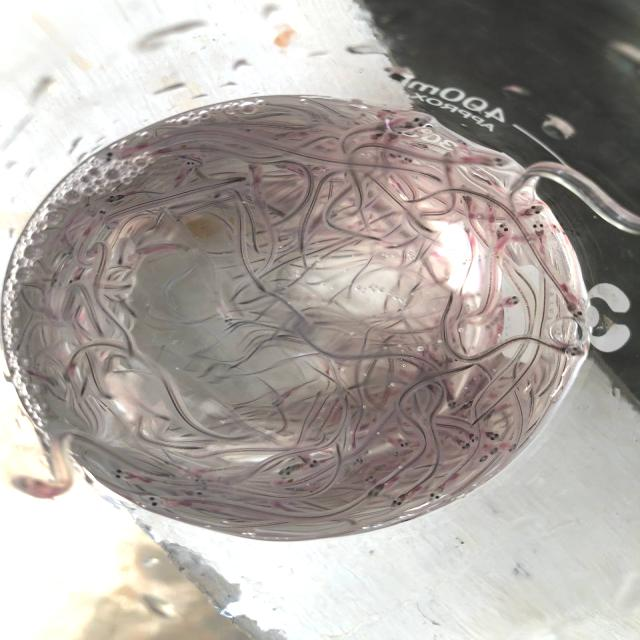glass_eel: (8, 476, 61, 502), (561, 301, 591, 321), (401, 114, 433, 132), (514, 203, 548, 219), (493, 220, 512, 246), (498, 293, 524, 311), (110, 468, 143, 482), (102, 147, 126, 165), (557, 344, 587, 358), (138, 497, 172, 509), (387, 494, 412, 510), (103, 192, 129, 206), (274, 463, 298, 478), (489, 154, 512, 169), (529, 222, 547, 238), (485, 427, 503, 443), (462, 394, 479, 410), (426, 488, 444, 503), (366, 487, 386, 500), (222, 314, 238, 330), (444, 397, 462, 411), (181, 158, 199, 172), (394, 438, 414, 450), (188, 488, 212, 498), (504, 438, 520, 452), (93, 206, 109, 220), (268, 398, 284, 412), (454, 440, 472, 452), (351, 454, 369, 466), (206, 192, 222, 204), (306, 458, 320, 471), (371, 130, 386, 142), (453, 138, 468, 150), (419, 142, 434, 154), (466, 429, 478, 444), (390, 450, 404, 462), (478, 452, 492, 464), (362, 473, 376, 485), (487, 444, 499, 456), (246, 163, 258, 175), (404, 154, 418, 164), (387, 152, 401, 162), (67, 274, 81, 284), (174, 217, 182, 227)
